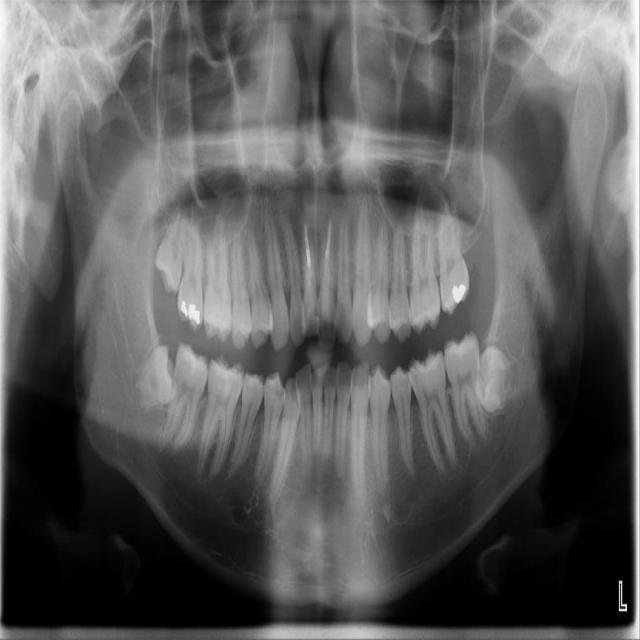3M ESPE Implant: (150, 199, 191, 296)
52: (202, 351, 250, 402), (437, 262, 472, 316), (312, 292, 340, 351), (177, 283, 205, 333), (300, 288, 320, 337)
73: (319, 209, 335, 297), (301, 213, 317, 291), (622, 624, 628, 632)
BioHorizons Implant: (435, 188, 471, 316)
Biomet 3i Implant: (455, 338, 531, 415)
Blue Sky Bio Implant: (439, 331, 495, 451)
Caries: (171, 200, 206, 334)
Implant: (158, 340, 214, 456)
Keystone Dental Implant: (122, 344, 184, 412)
